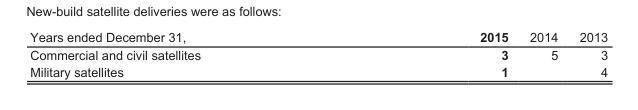table: (29, 29, 607, 79)
table column: (29, 29, 339, 79), (339, 29, 518, 79), (518, 29, 568, 79), (568, 29, 607, 79)
table column header: (29, 29, 607, 45)
table row: (29, 45, 607, 63), (29, 29, 607, 45), (29, 63, 607, 79)
